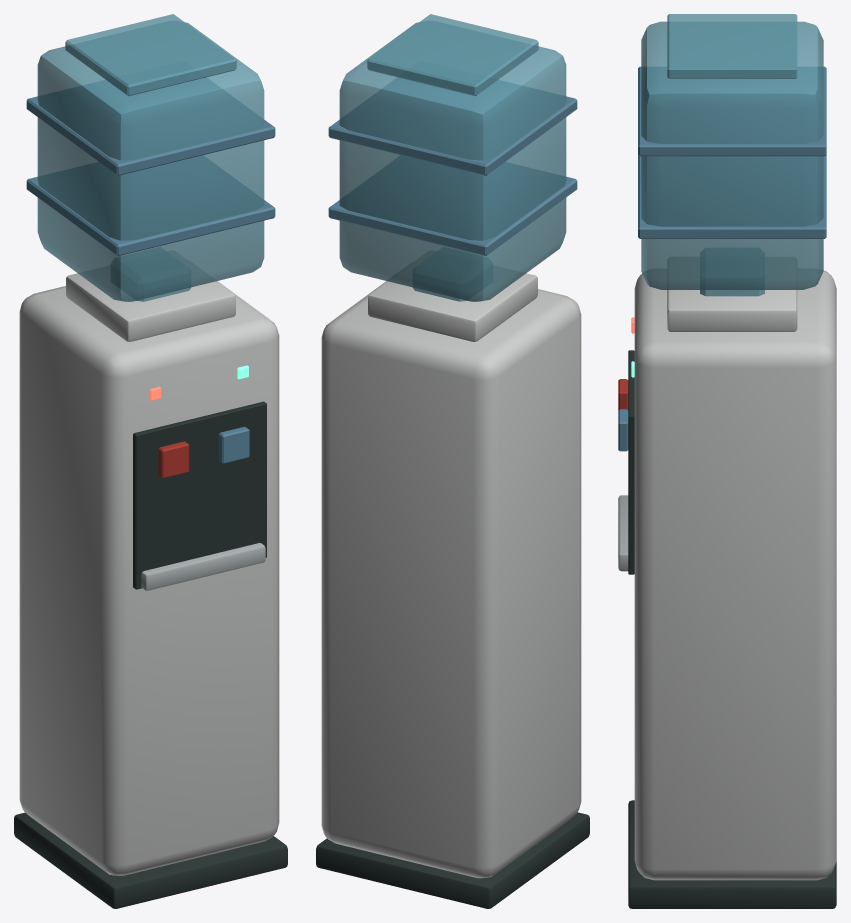
Rendered from water-dispenser.glb.
3 renders of one model, left to right at view 1: azimuth 30°, elevation 25°; view 2: azimuth 150°, elevation 25°; view 3: azimuth 270°, elevation 25°, orthographic. The views are drawn at different scales.
Parts seen in each view (by area): view 1: water-dispenser; view 2: water-dispenser; view 3: water-dispenser.
Boxes of the visible parts, <box> form: water-dispenser: <box>14,14,287,908</box>; water-dispenser: <box>316,14,589,908</box>; water-dispenser: <box>618,14,836,908</box>.
Size of the model in its own units: 0.32 by 1.4 by 0.335.
